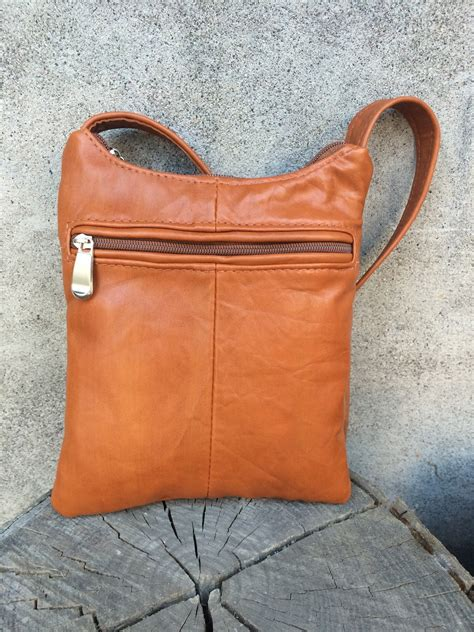cuero: (51, 94, 444, 521)
